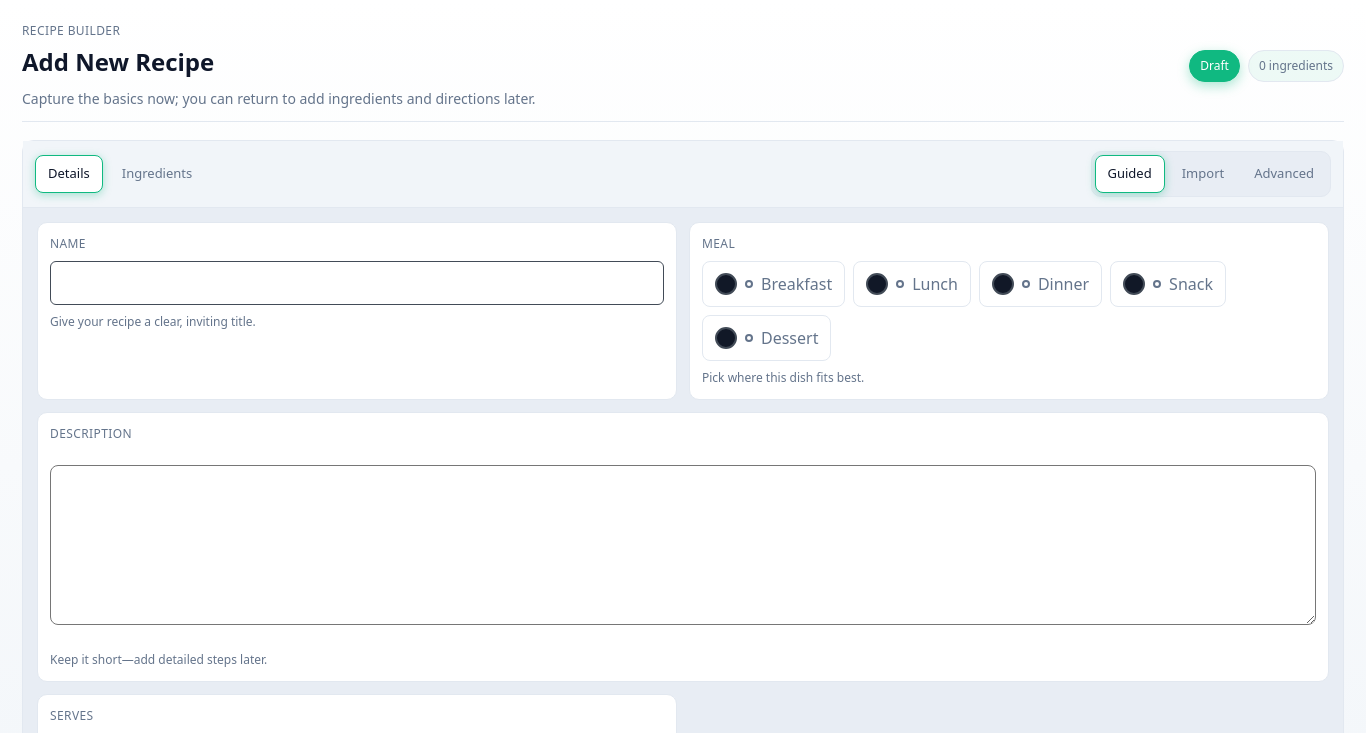
Test: Store Page - Recipe Creation › Save and Publish Functionality › Publish button is disabled when no ingredients are added
Note: Fill out all required fields but no ingredients
Type "Recipe Without Ingredients" into the field with placeholder "e.g. Smoky chipotle chili". click: point(357, 282)
box: [50,260,664,304]
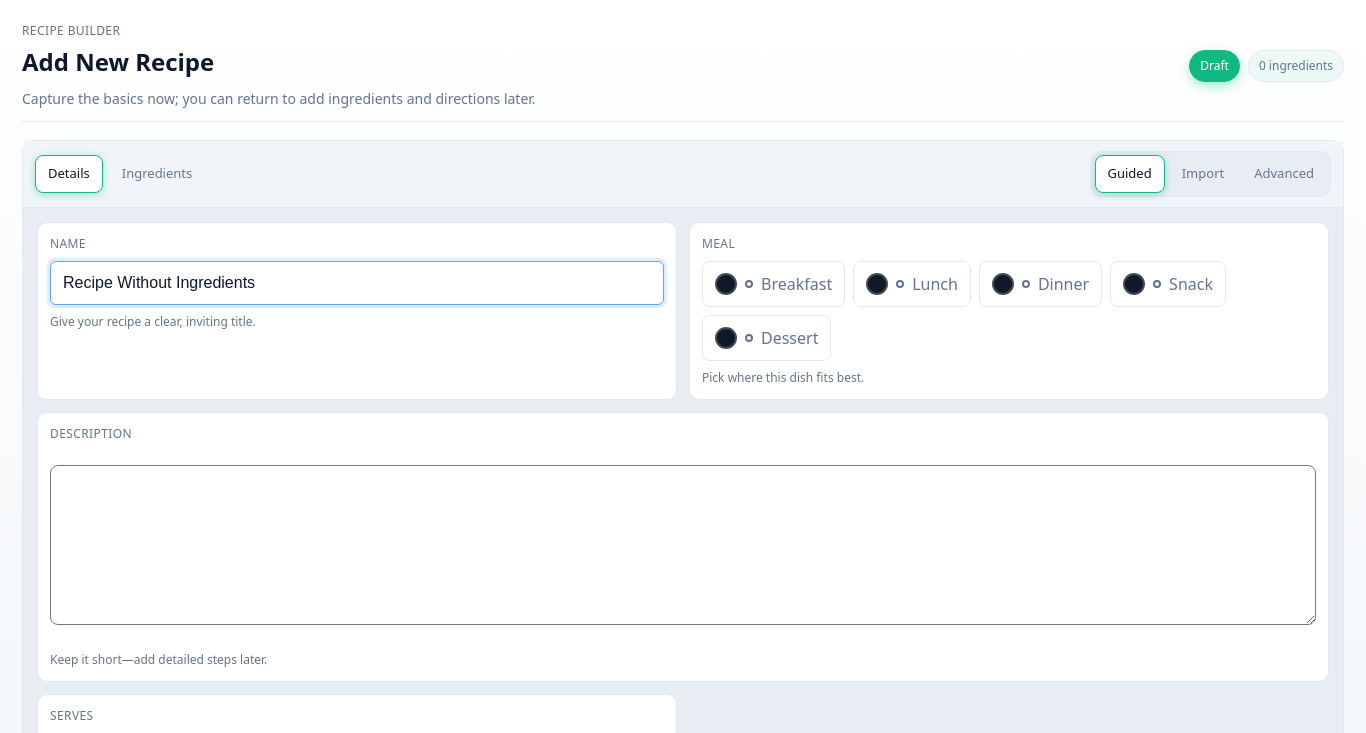
Click the radio button labelled "Lunch". click: point(912, 284)
box: [853,260,971,306]
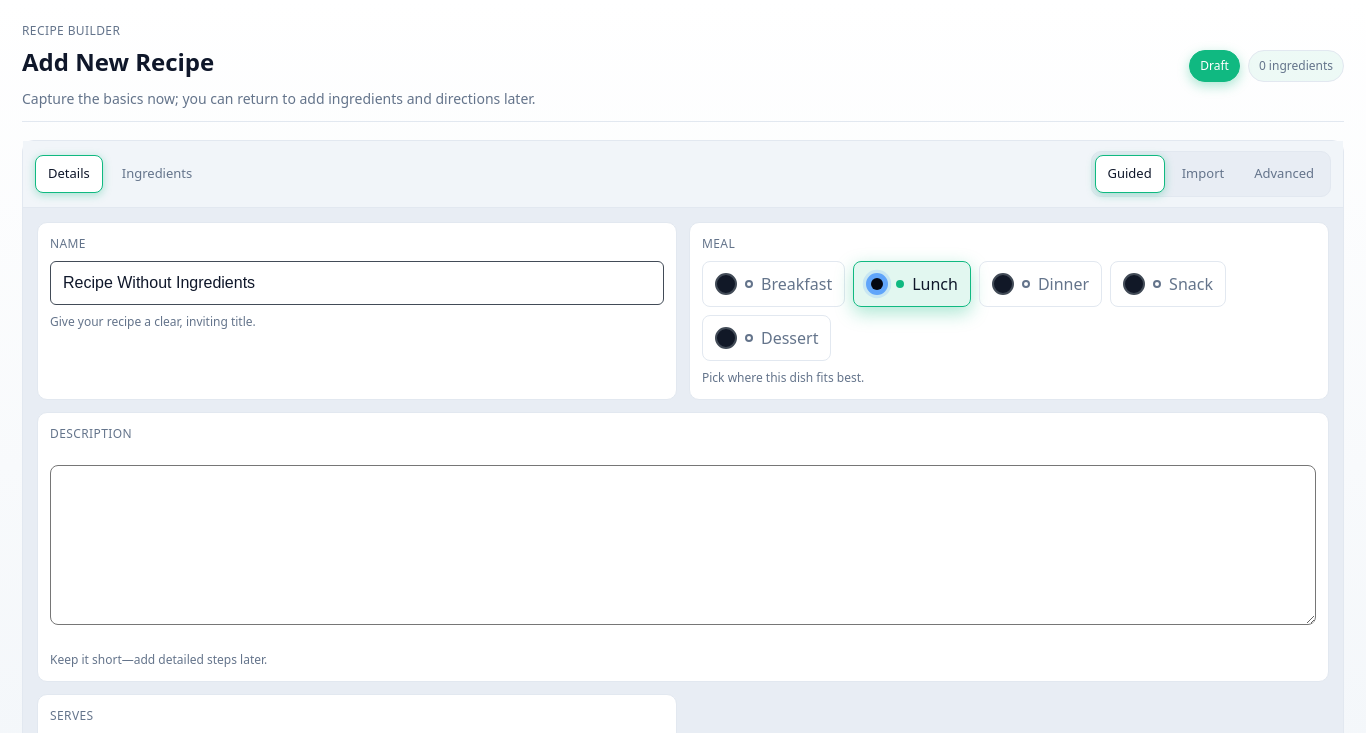
Type "A description" into the text box with placeholder "Describe flavors, prep time, or serving ideas.". click: point(683, 544)
box: [50,464,1316,624]
(page scrolled)
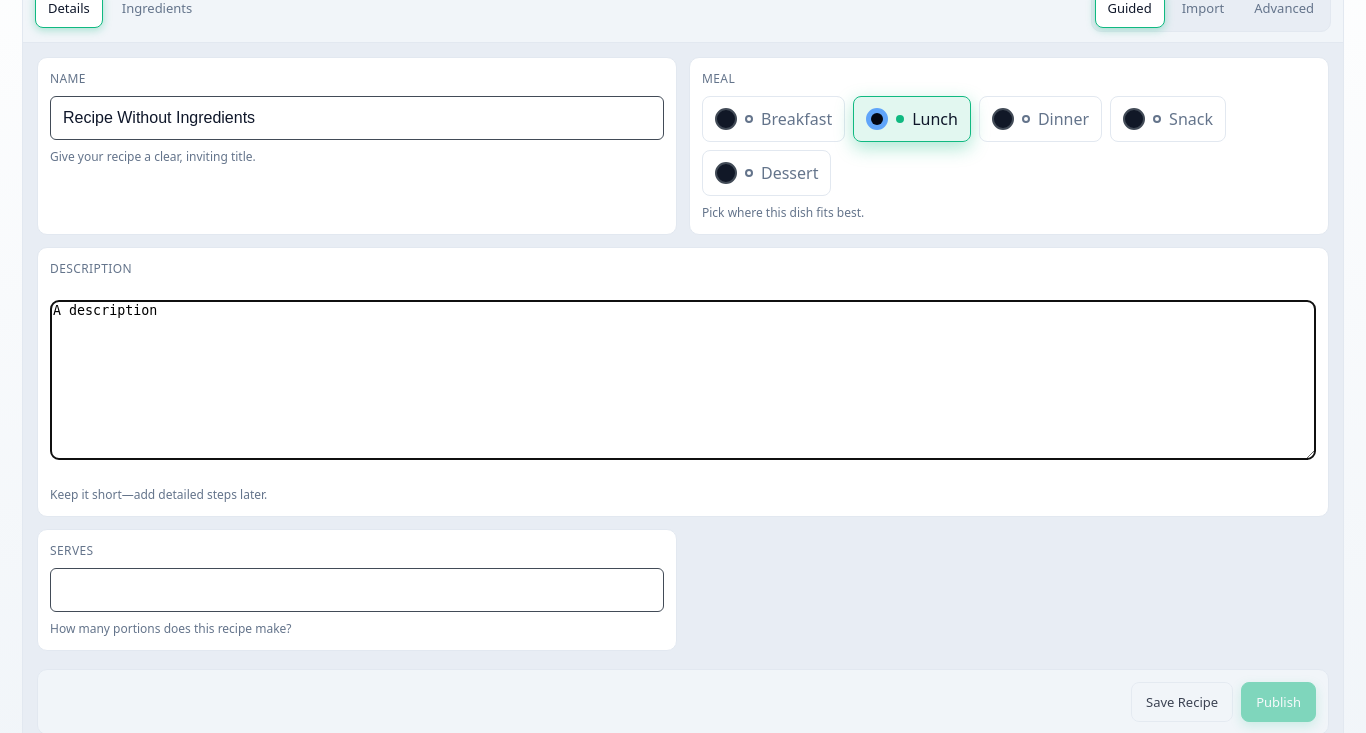
Expected: the button "Publish" is disabled, [1241,682,1316,722]
Result: the button "Save Recipe" is enabled at [1131,682,1233,722]
